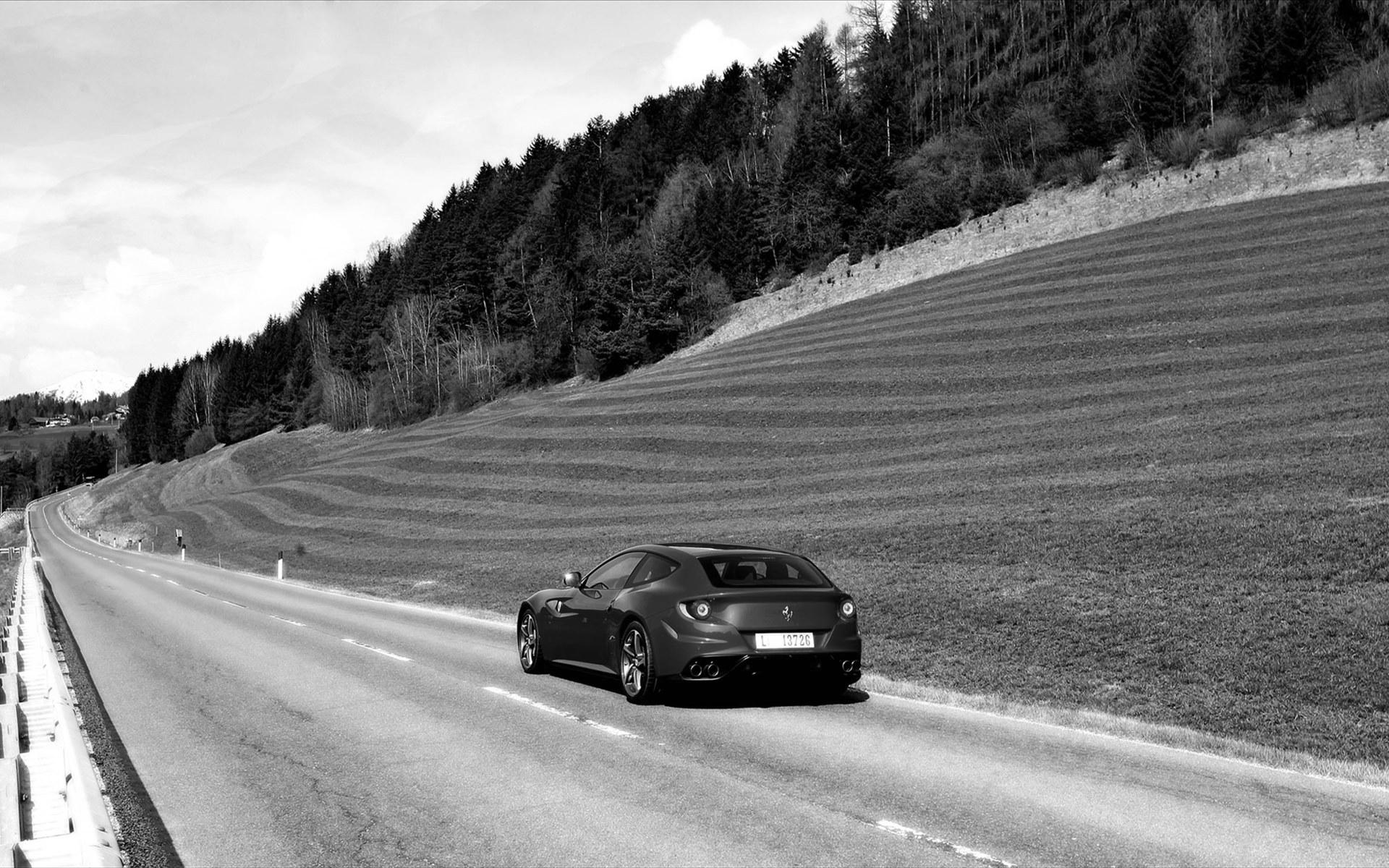car: (515, 537, 862, 706)
